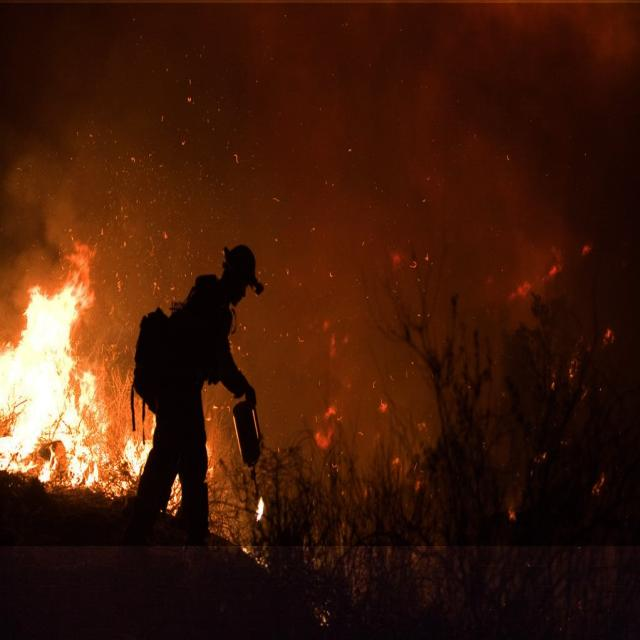Fire: (4, 247, 198, 525)
Smoke: (0, 3, 640, 546)
